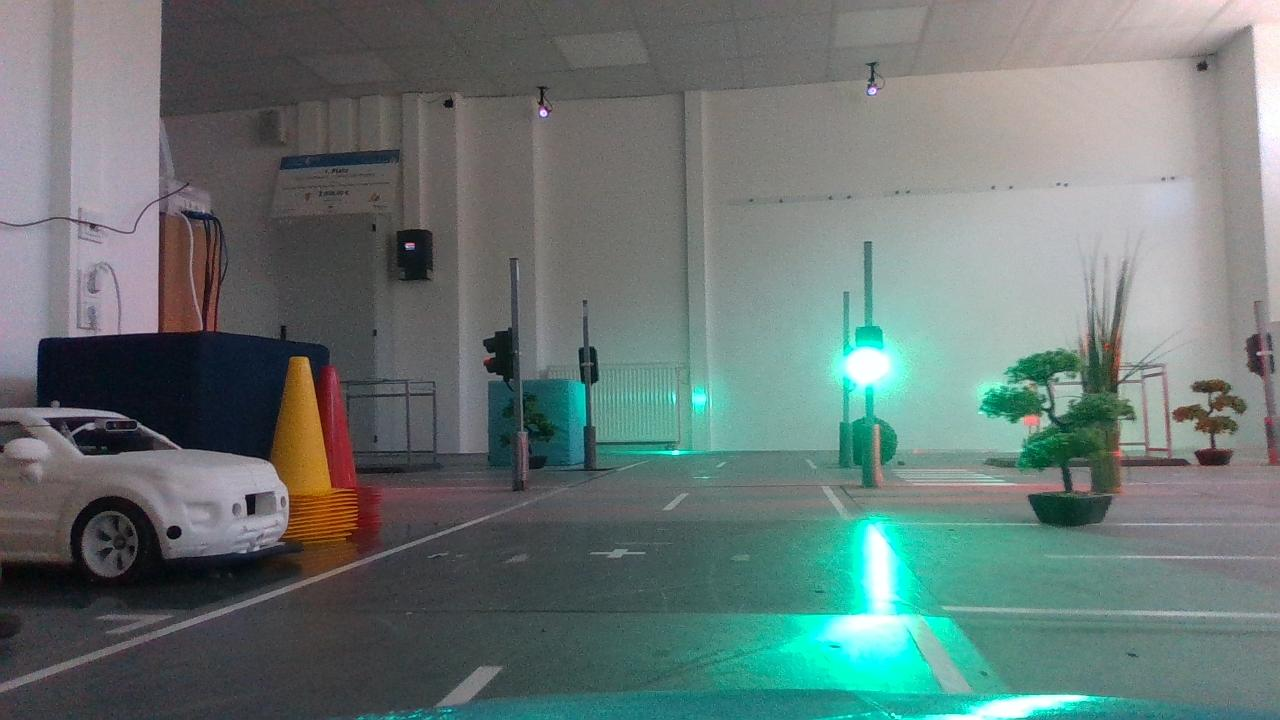traffic_light_green: (847, 318, 895, 396)
